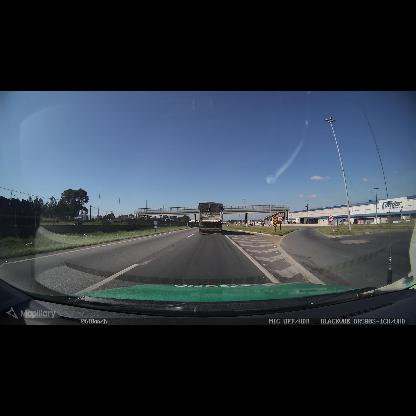O-MP: (273, 215, 277, 228)
R-19: (328, 215, 334, 222), (277, 216, 283, 222)
